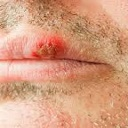Cold Sore: (33, 39, 62, 56)
